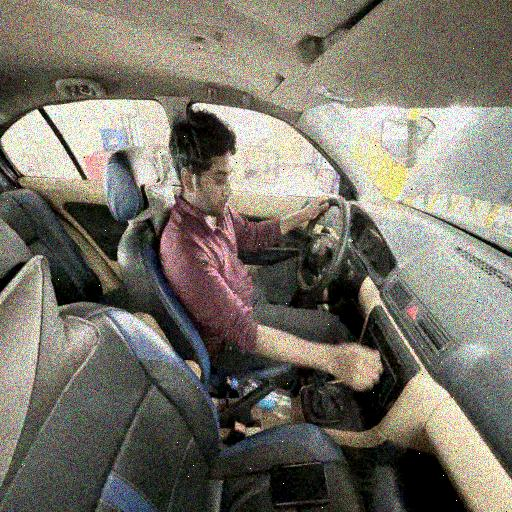operatingradio: (157, 110, 405, 420)
